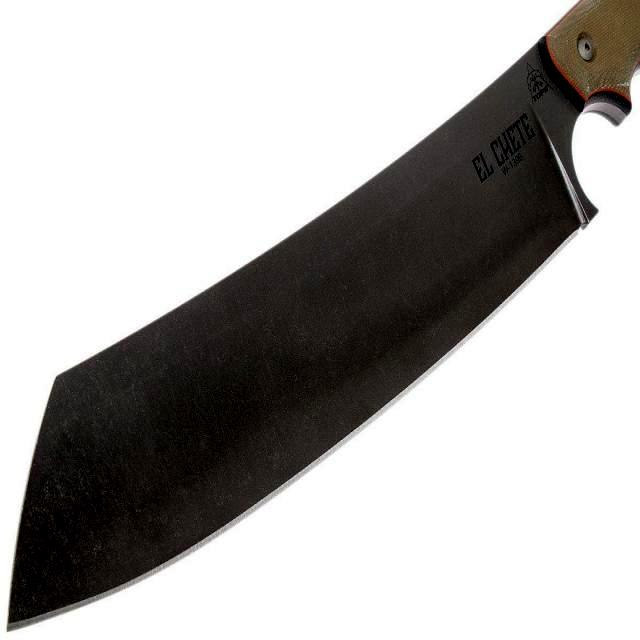long knife: (8, 4, 624, 614)
